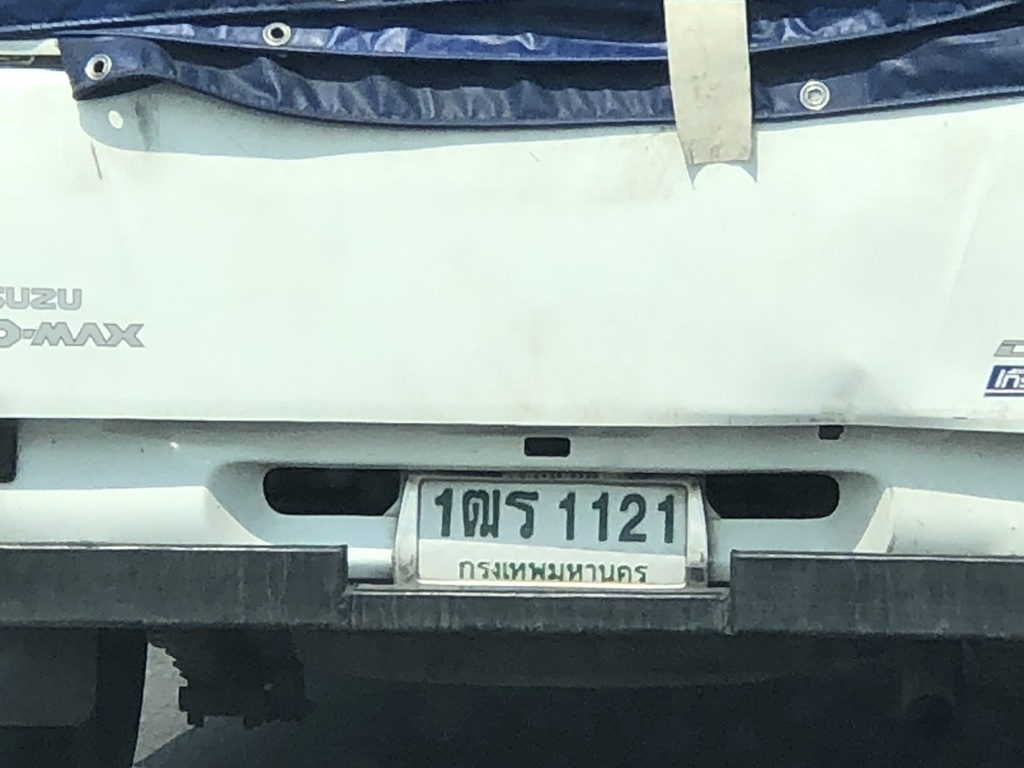plate: (410, 468, 697, 593)
